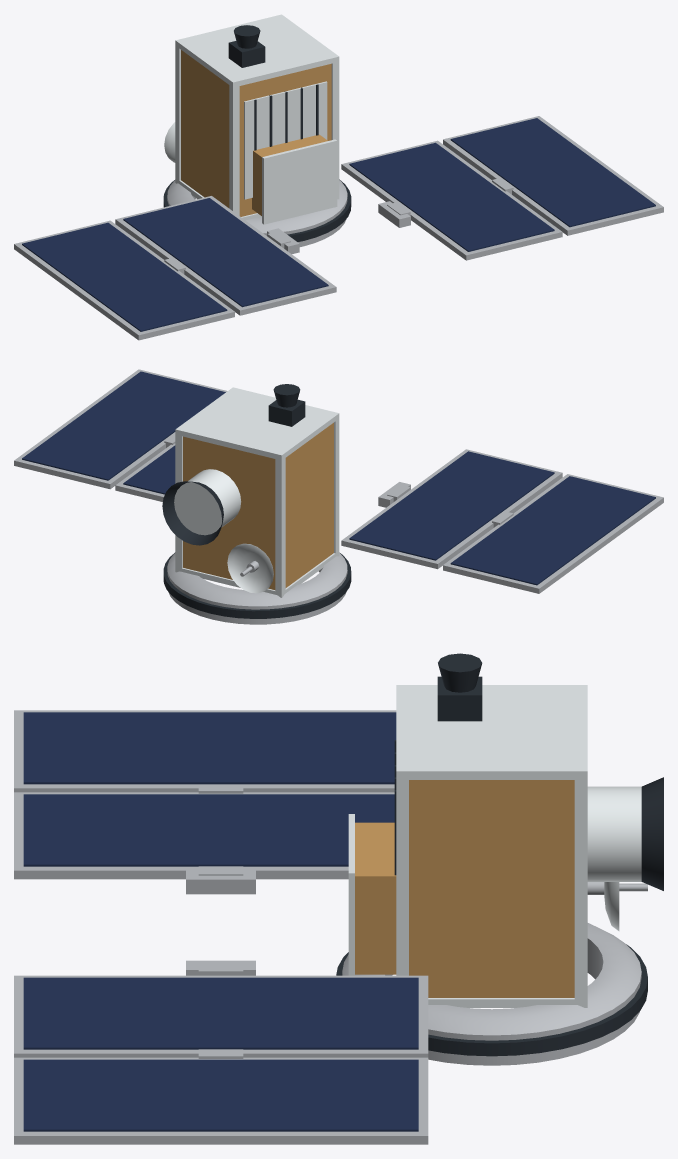
Rendered from satpwr_large_deployable_array.fbx.
3 renders of one model, top to bottom at view 1: azimuth 30°, elevation 25°; view 2: azimuth 150°, elevation 25°; view 3: azimuth 270°, elevation 25°, orthographic. The views are drawn at different scales.
Parts seen in each view (by area): view 1: satpwr_large_deployable_array_LOD0, satpwr_large_deployable_array_wing_r_LOD0, satpwr_large_deployable_array_wing_l_LOD0, satpwr_large_deployable_array_wing_l_outer_LOD0, satpwr_large_deployable_array_wing_r_outer_LOD0; view 2: satpwr_large_deployable_array_LOD0, satpwr_large_deployable_array_wing_l_LOD0, satpwr_large_deployable_array_wing_l_outer_LOD0, satpwr_large_deployable_array_wing_r_outer_LOD0, satpwr_large_deployable_array_wing_r_LOD0; view 3: satpwr_large_deployable_array_LOD0, satpwr_large_deployable_array_wing_r_outer_LOD0, satpwr_large_deployable_array_wing_r_LOD0, satpwr_large_deployable_array_wing_l_LOD0, satpwr_large_deployable_array_wing_l_outer_LOD0.
Part boxes in pixels (box(x1,y1,x2,y2)): satpwr_large_deployable_array_LOD0: box(163, 14, 351, 246); satpwr_large_deployable_array_wing_r_LOD0: box(341, 140, 562, 260); satpwr_large_deployable_array_wing_l_LOD0: box(115, 196, 336, 315); satpwr_large_deployable_array_wing_l_outer_LOD0: box(14, 220, 234, 340); satpwr_large_deployable_array_wing_r_outer_LOD0: box(443, 116, 663, 235); satpwr_large_deployable_array_LOD0: box(162, 384, 351, 624); satpwr_large_deployable_array_wing_l_LOD0: box(341, 449, 562, 569); satpwr_large_deployable_array_wing_l_outer_LOD0: box(443, 474, 663, 593); satpwr_large_deployable_array_wing_r_outer_LOD0: box(14, 369, 227, 489); satpwr_large_deployable_array_wing_r_LOD0: box(115, 443, 175, 501); satpwr_large_deployable_array_LOD0: box(336, 653, 663, 1065); satpwr_large_deployable_array_wing_r_outer_LOD0: box(14, 1049, 428, 1144); satpwr_large_deployable_array_wing_r_LOD0: box(14, 960, 428, 1057); satpwr_large_deployable_array_wing_l_LOD0: box(14, 792, 394, 894); satpwr_large_deployable_array_wing_l_outer_LOD0: box(14, 710, 396, 793).
Size of what is drawn, in the model's own units: 3.16 by 1.12 by 2.04.
